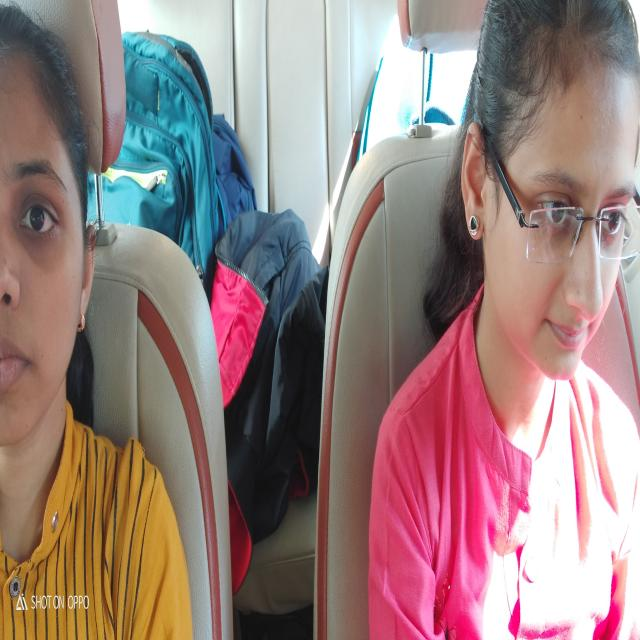person: (459, 0, 640, 424), (1, 0, 92, 462)
